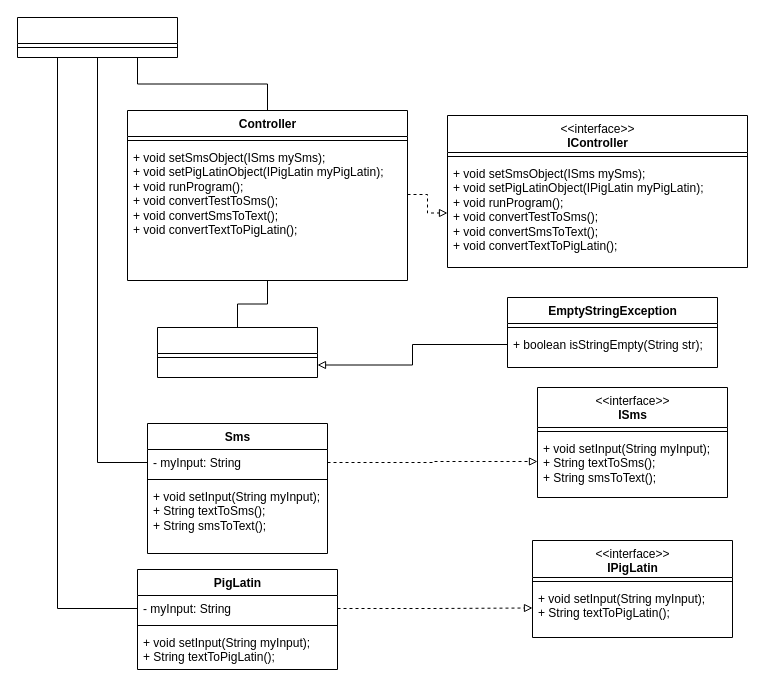
Some shapes in this 765 by 690 pixel diagram are drawn without their labels. The centre of each missing label's shape, as x and y in pixels:
Exception: [237,352]
Main: [97,37]
